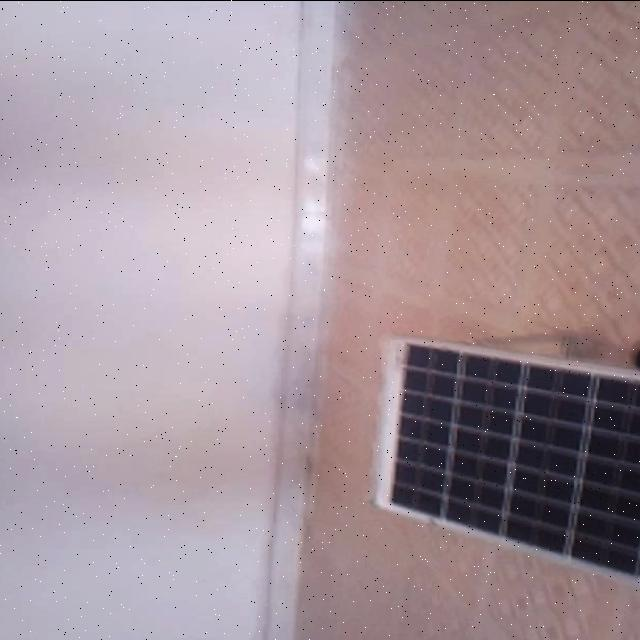Normal Solar Panel: (374, 336, 640, 591)
